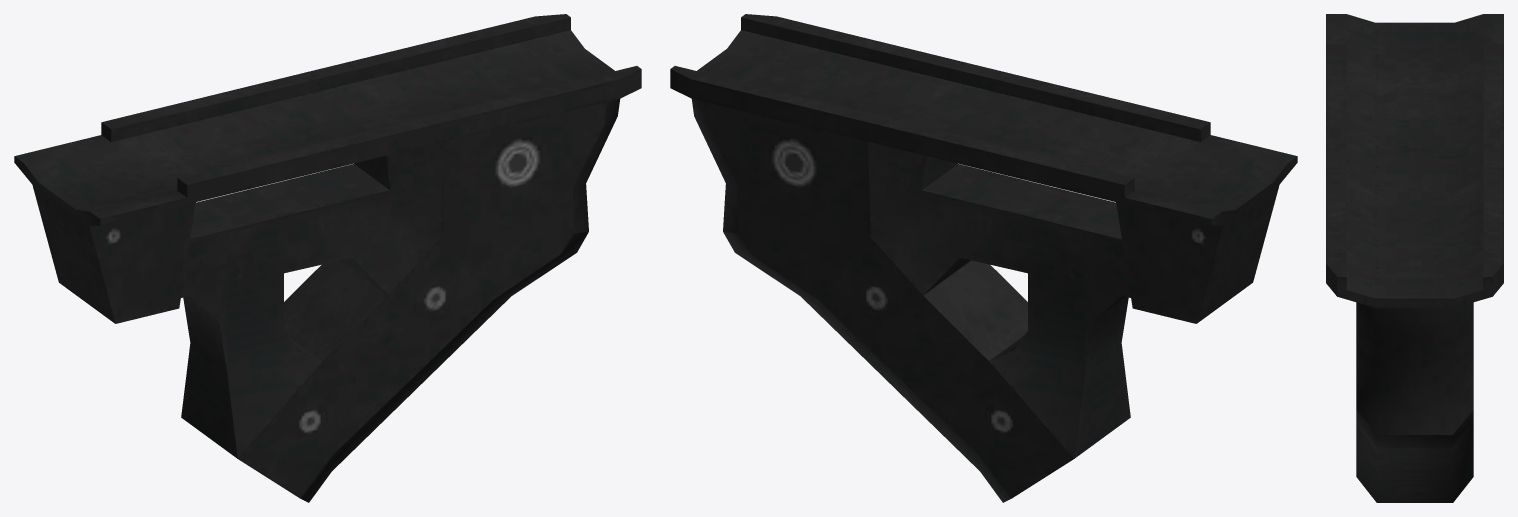
Rendered from ST_Grip_ThumbGrip.FBX.
3 renders of one model, left to right at view 1: azimuth 30°, elevation 25°; view 2: azimuth 150°, elevation 25°; view 3: azimuth 270°, elevation 25°, orthographic. The views are drawn at different scales.
Visible parts, largest first — view 1: ST_Grip_ThumbGrip; view 2: ST_Grip_ThumbGrip; view 3: ST_Grip_ThumbGrip.
Boxes of the visible parts, x1,y1,x2,y2 form: ST_Grip_ThumbGrip: (14,14,641,502); ST_Grip_ThumbGrip: (670,14,1297,502); ST_Grip_ThumbGrip: (1326,14,1503,502).
Size of the model in its own units: 11.72 by 7.61 by 3.19.
1 material, 1 textured.
